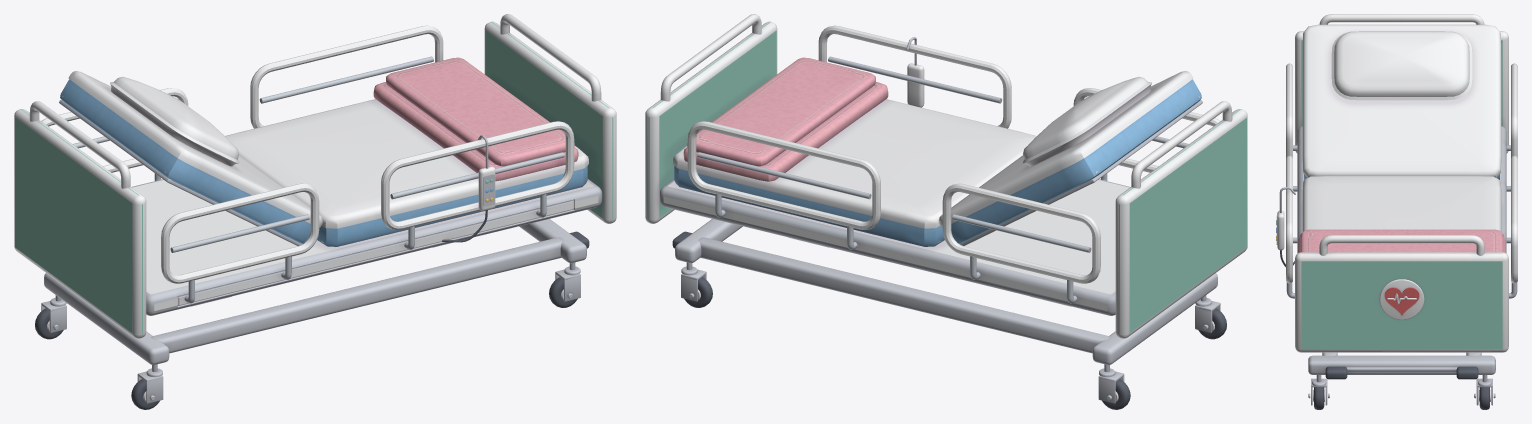
Rendered from hospital_bed.glb.
The picture shows the model from 3 angles, left to right: view 1: azimuth 30°, elevation 25°; view 2: azimuth 150°, elevation 25°; view 3: azimuth 270°, elevation 25°; orthographic projection. The views are drawn at different scales.
Parts seen in each view (by area): view 1: hospital-bed_body, hospital-bed_backrest; view 2: hospital-bed_body, hospital-bed_backrest; view 3: hospital-bed_body, hospital-bed_backrest.
Boxes of the visible parts, bbox=[...] form: hospital-bed_body: bbox=[14, 14, 616, 409]; hospital-bed_backrest: bbox=[59, 71, 323, 245]; hospital-bed_body: bbox=[645, 14, 1247, 409]; hospital-bed_backrest: bbox=[938, 71, 1202, 245]; hospital-bed_body: bbox=[1276, 14, 1517, 409]; hospital-bed_backrest: bbox=[1302, 24, 1501, 179].
Bounding box in the file's own units: 2.22 × 1.13 × 1.11.
Materials: 2 (2 with a texture image).
